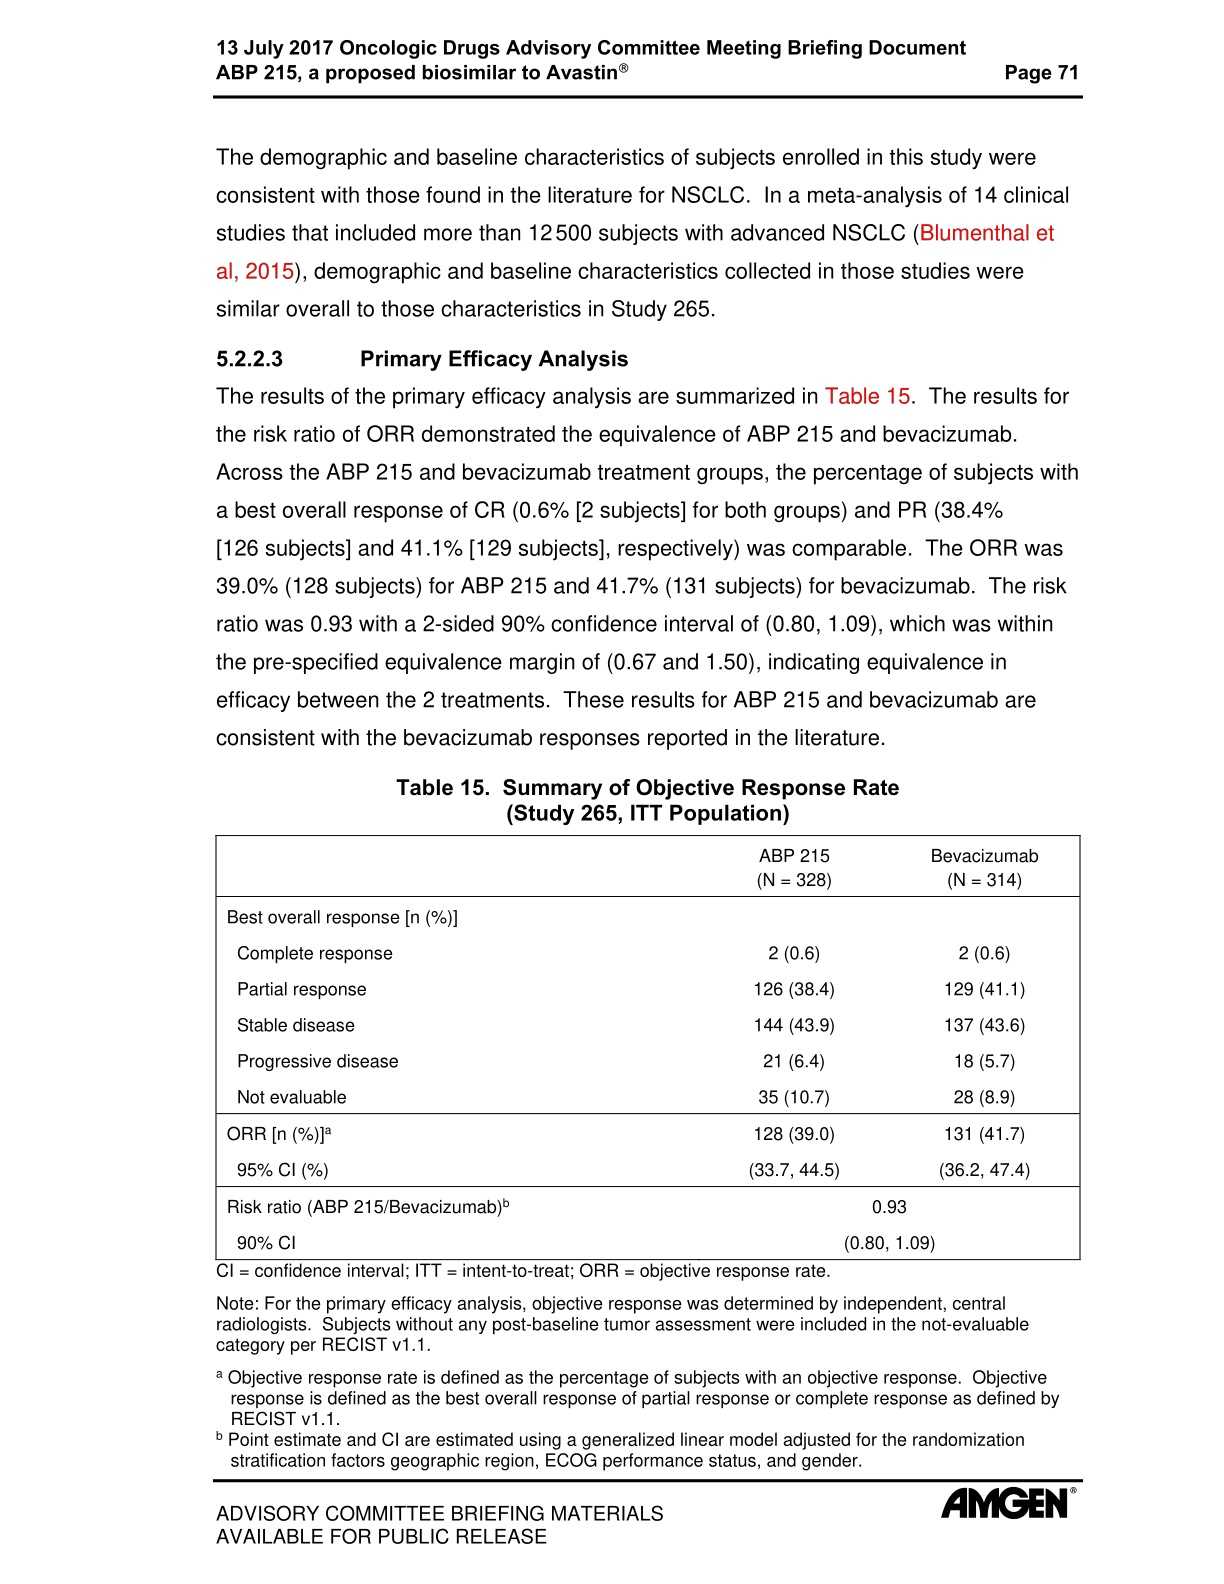partial_lined: (215, 832, 1083, 1263)
